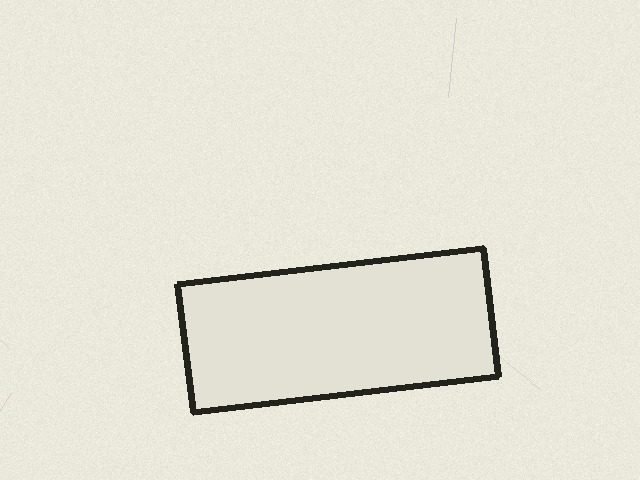parking_area: (177, 248, 498, 412)
